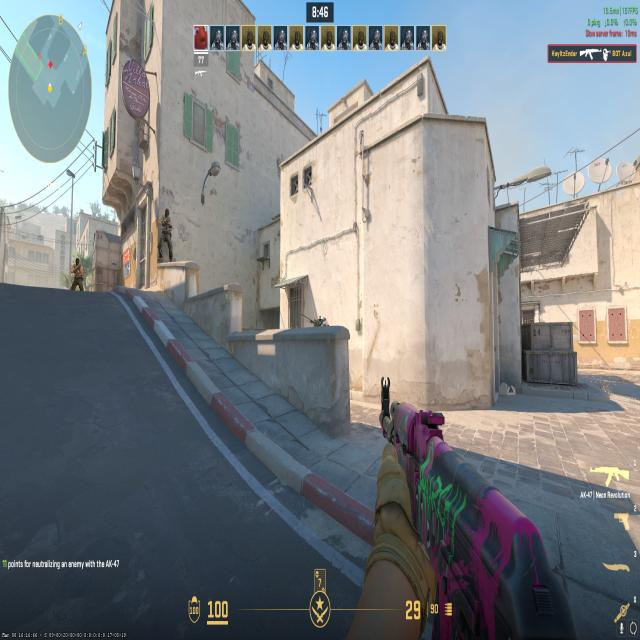ct: (306, 307, 331, 326)
t: (156, 202, 176, 262), (69, 254, 86, 288)
